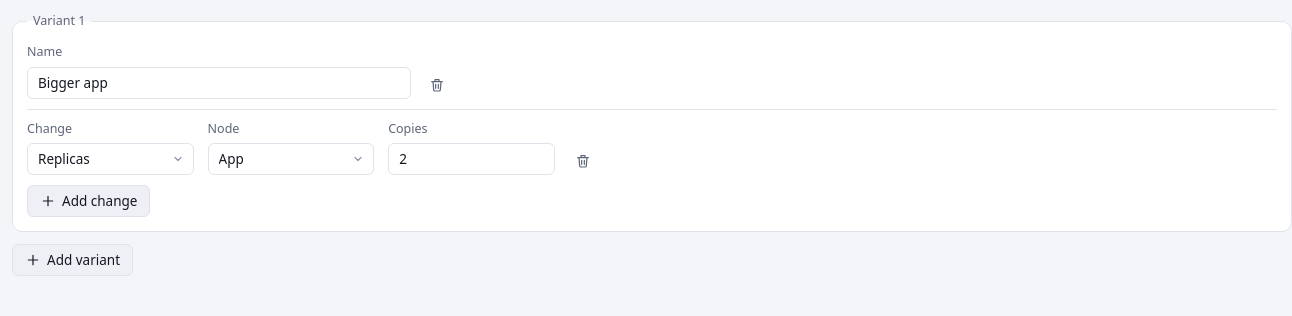
VariantEditor › explains when no node has a template to change
The width and height of the screenshot is (1292, 316).
Select "Node setting" in the dropdown labelled "Change": {"x": 110, "y": 159} [27,143,194,175]
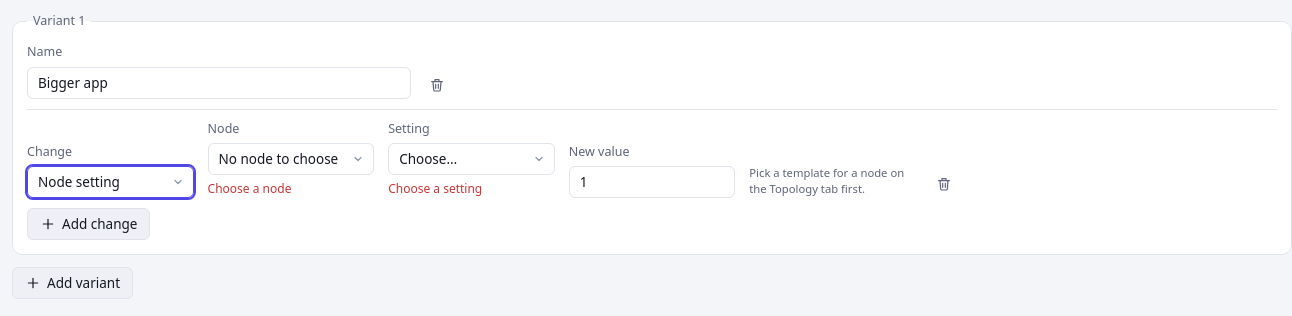
Expected: the text "Pick a template for a node on the Topology tab first." is shown, [749,164,916,198]
